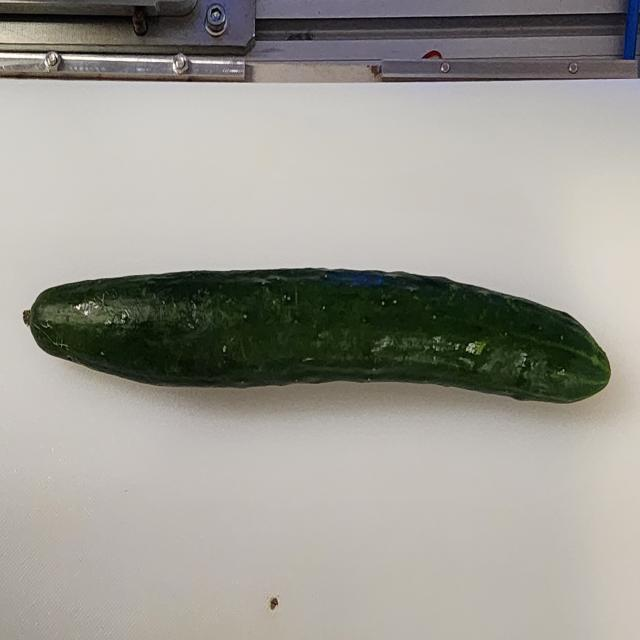cucumber: (22, 266, 612, 404)
